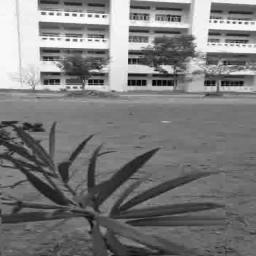OLEANDER: (2, 121, 226, 256)
